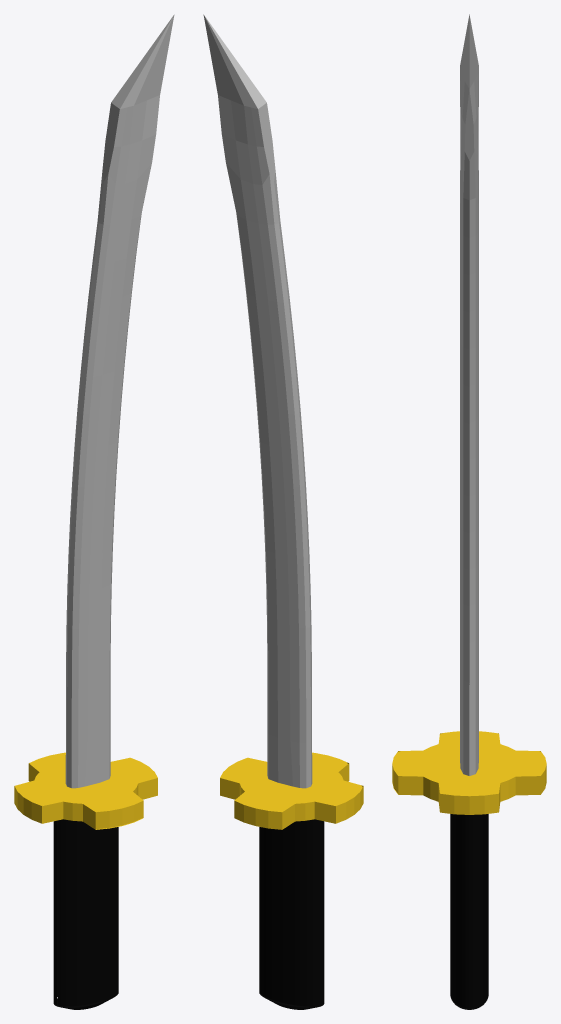
Rendered from katana.fbx.
3 views of the same model, side by side, from view 1: azimuth 30°, elevation 25°; view 2: azimuth 150°, elevation 25°; view 3: azimuth 270°, elevation 25° (orthographic). The views are drawn at different scales.
Parts seen in each view (by area): view 1: katanaBlade, katanaHilt(tsuka), katanaGuard(tsuba); view 2: katanaBlade, katanaHilt(tsuka), katanaGuard(tsuba); view 3: katanaBlade, katanaGuard(tsuba), katanaHilt(tsuka).
Part boxes in pixels (left/top/right/bottom): katanaBlade: left=65, top=14, right=174, bottom=788; katanaHilt(tsuka): left=53, top=819, right=118, bottom=1009; katanaGuard(tsuba): left=14, top=752, right=157, bottom=829; katanaBlade: left=203, top=14, right=312, bottom=788; katanaHilt(tsuka): left=259, top=819, right=324, bottom=1009; katanaGuard(tsuba): left=220, top=752, right=363, bottom=829; katanaBlade: left=460, top=14, right=478, bottom=775; katanaGuard(tsuba): left=392, top=731, right=546, bottom=814; katanaHilt(tsuka): left=450, top=814, right=488, bottom=1009.
Bounding box in the file's own units: 482 × 2953 × 400.
